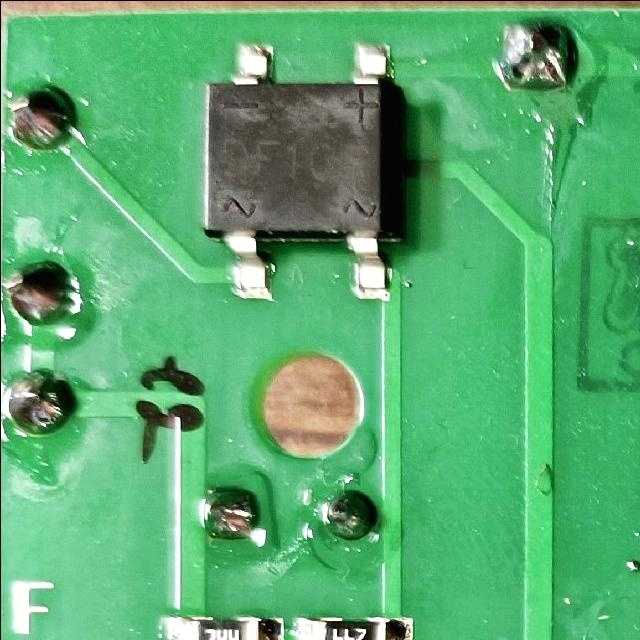chip-resistor: (292, 613, 416, 640), (163, 613, 285, 640)
ic: (198, 38, 406, 302)
